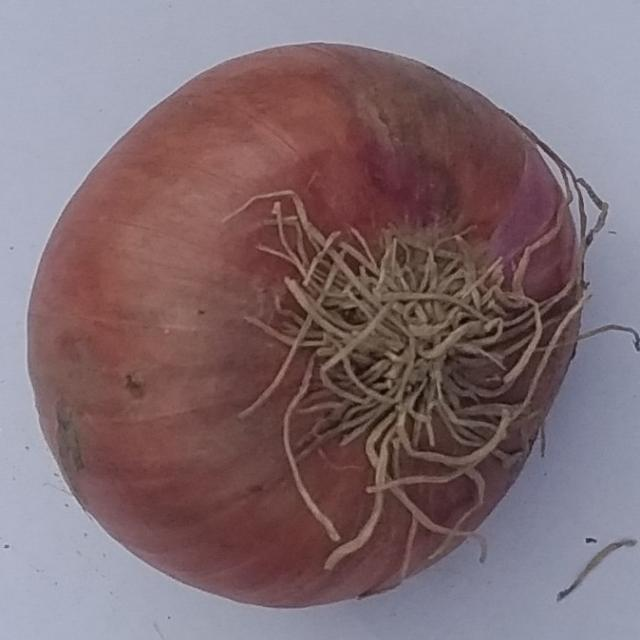onion: (24, 43, 597, 610)
